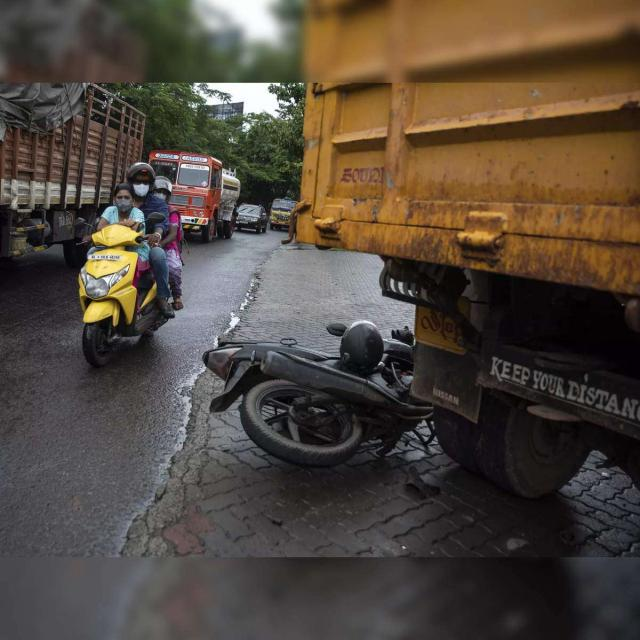motorcycle: (79, 163, 184, 366)
truck: (150, 150, 240, 242)
